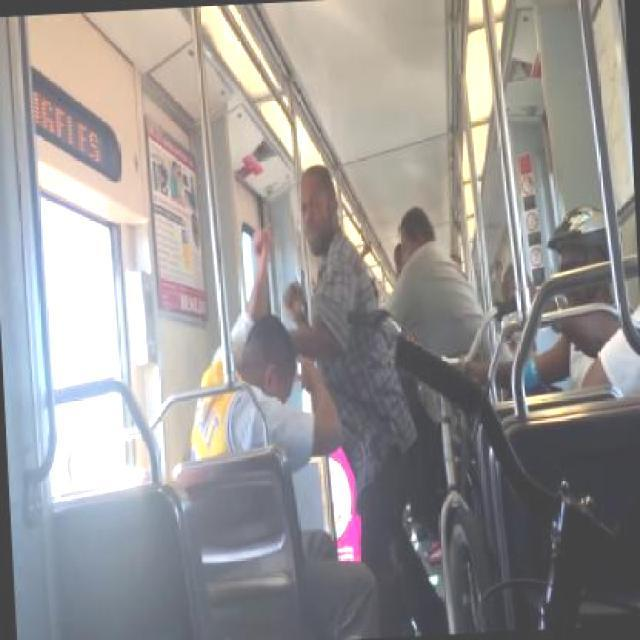fight: (176, 155, 412, 516)
